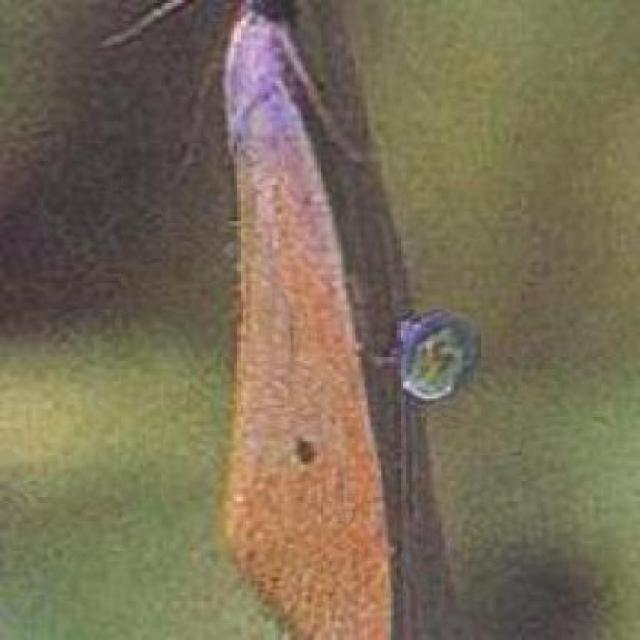stem-borer: (218, 0, 388, 640)
